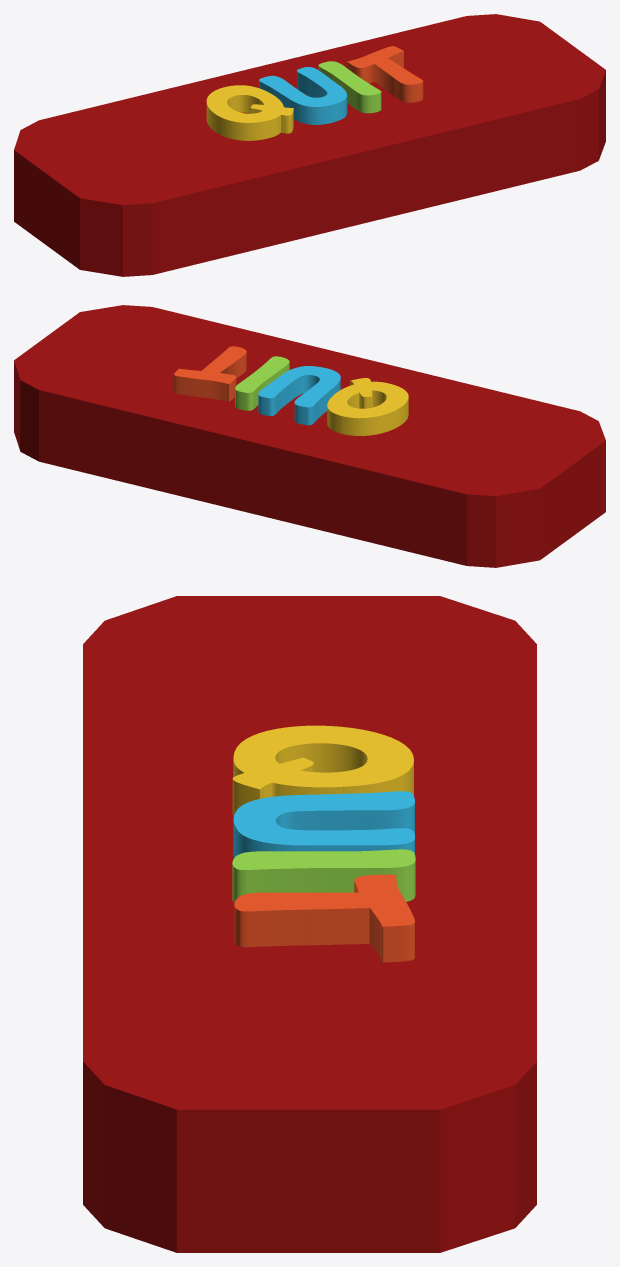
The model's file is quit.fbx.
3 renders of one model, top to bottom at view 1: azimuth 30°, elevation 25°; view 2: azimuth 150°, elevation 25°; view 3: azimuth 270°, elevation 25°, orthographic. The views are drawn at different scales.
Visible parts, largest first — view 1: Cube.001, Text.001; view 2: Cube.001, Text.001; view 3: Cube.001, Text.001.
Part boxes in pixels (bbox=[...]): Cube.001: bbox=[14, 14, 605, 276]; Text.001: bbox=[206, 46, 423, 140]; Cube.001: bbox=[14, 305, 605, 567]; Text.001: bbox=[174, 346, 408, 435]; Cube.001: bbox=[83, 596, 536, 1252]; Text.001: bbox=[232, 725, 415, 962].
Size of the model in its own units: 535 by 87.1 by 200.
